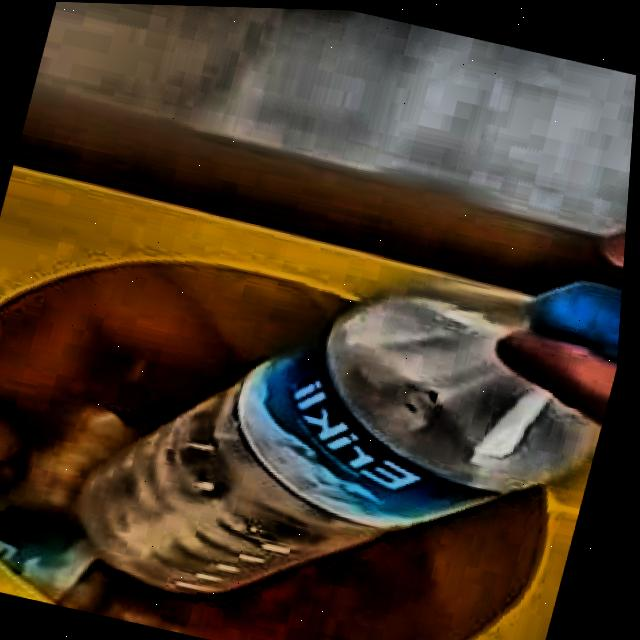plastic: (90, 278, 626, 594)
